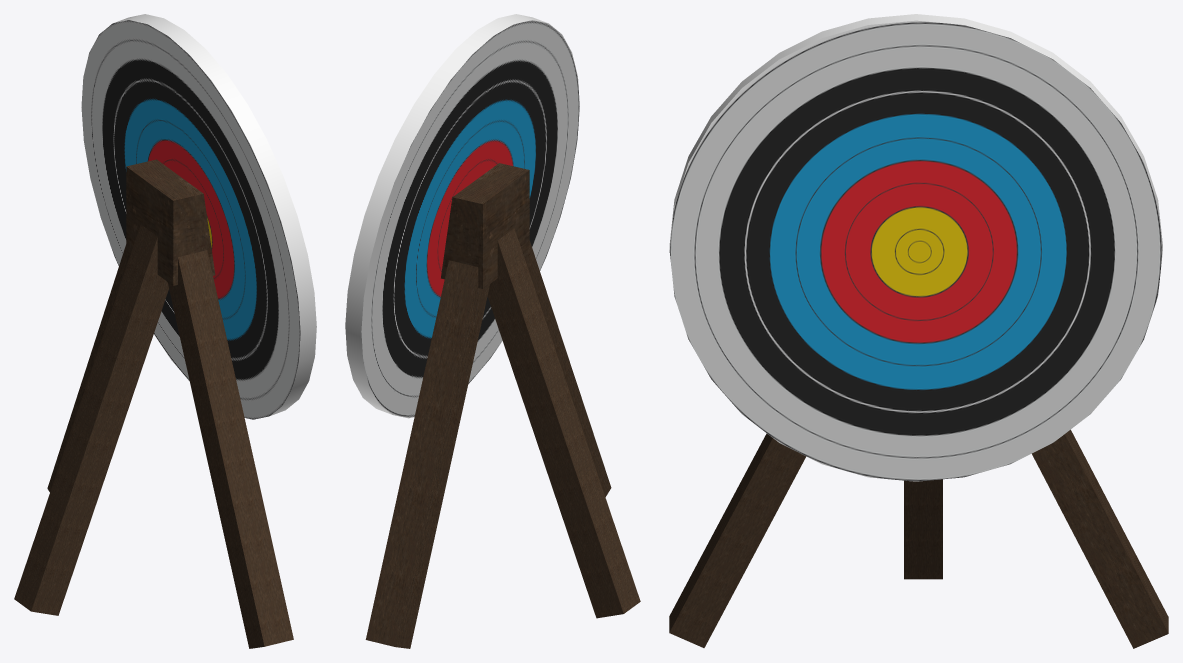
The model's file is target.glb.
The picture shows the model from 3 angles, left to right: view 1: azimuth 30°, elevation 25°; view 2: azimuth 150°, elevation 25°; view 3: azimuth 270°, elevation 25°; orthographic projection. The views are drawn at different scales.
Parts seen in each view (by area): view 1: Cylinder_0, Cube.002_3, Cube.001_2, Cube.003_4, Cube_1; view 2: Cylinder_0, Cube.002_3, Cube_1, Cube.003_4, Cube.001_2; view 3: Cylinder_0, Cube_1, Cube.001_2, Cube.002_3.
Part boxes in pixels (<box>): Cylinder_0: <box>81,14,316,419</box>; Cube.002_3: <box>14,224,168,615</box>; Cube.001_2: <box>167,250,293,648</box>; Cube.003_4: <box>126,159,215,285</box>; Cube_1: <box>47,244,130,492</box>; Cylinder_0: <box>345,14,579,418</box>; Cube.002_3: <box>487,228,640,618</box>; Cube_1: <box>365,260,489,648</box>; Cube.003_4: <box>441,163,529,288</box>; Cube.001_2: <box>524,241,611,497</box>; Cylinder_0: <box>669,14,1162,481</box>; Cube_1: <box>1032,429,1168,648</box>; Cube.001_2: <box>669,433,806,647</box>; Cube.002_3: <box>904,479,942,579</box>.
Bounding box in the file's own units: 1.1 × 2.83 × 2.03.
2 materials, 2 textured.
